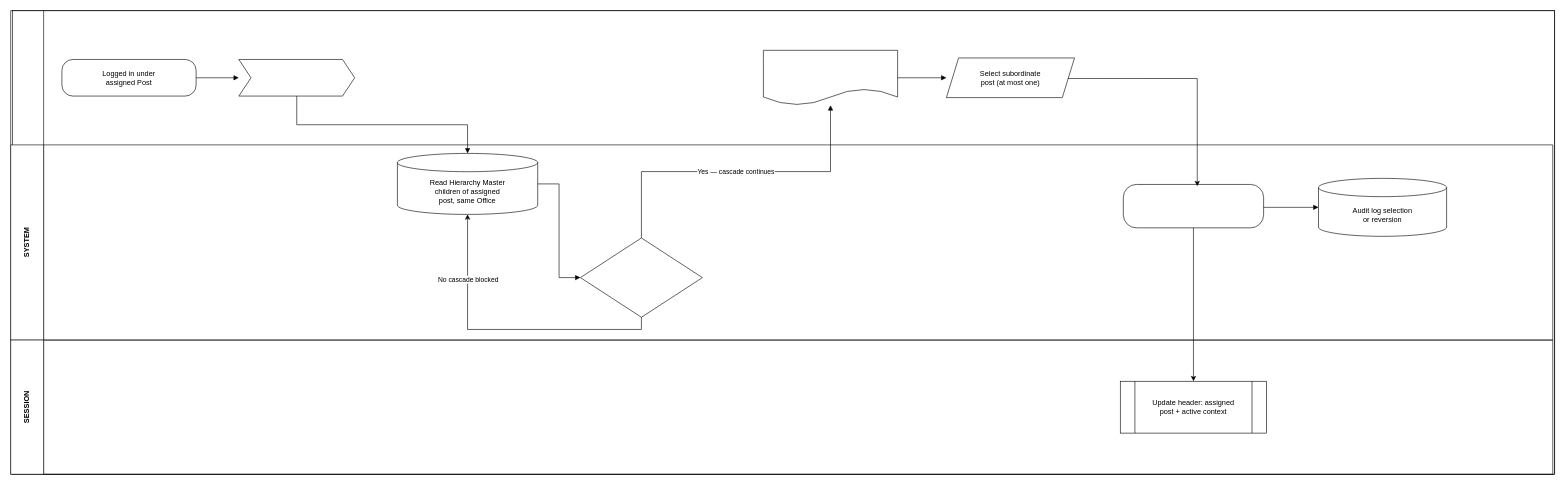
Some shapes in this 1565 by 485 pixel diagram are drawn without their labels. Here are the shapes that lost their labels. From the top down, the centre of each, then its label:
point 296,77: Open Additional charge control
point 830,77: Show options: Role + Post (+ Office); clear-charge option
point 1193,206: Recompute claims from active context ONLY
point 641,277: Child post wholly unoccupied? Occupied = 0 (FR-66(b))
